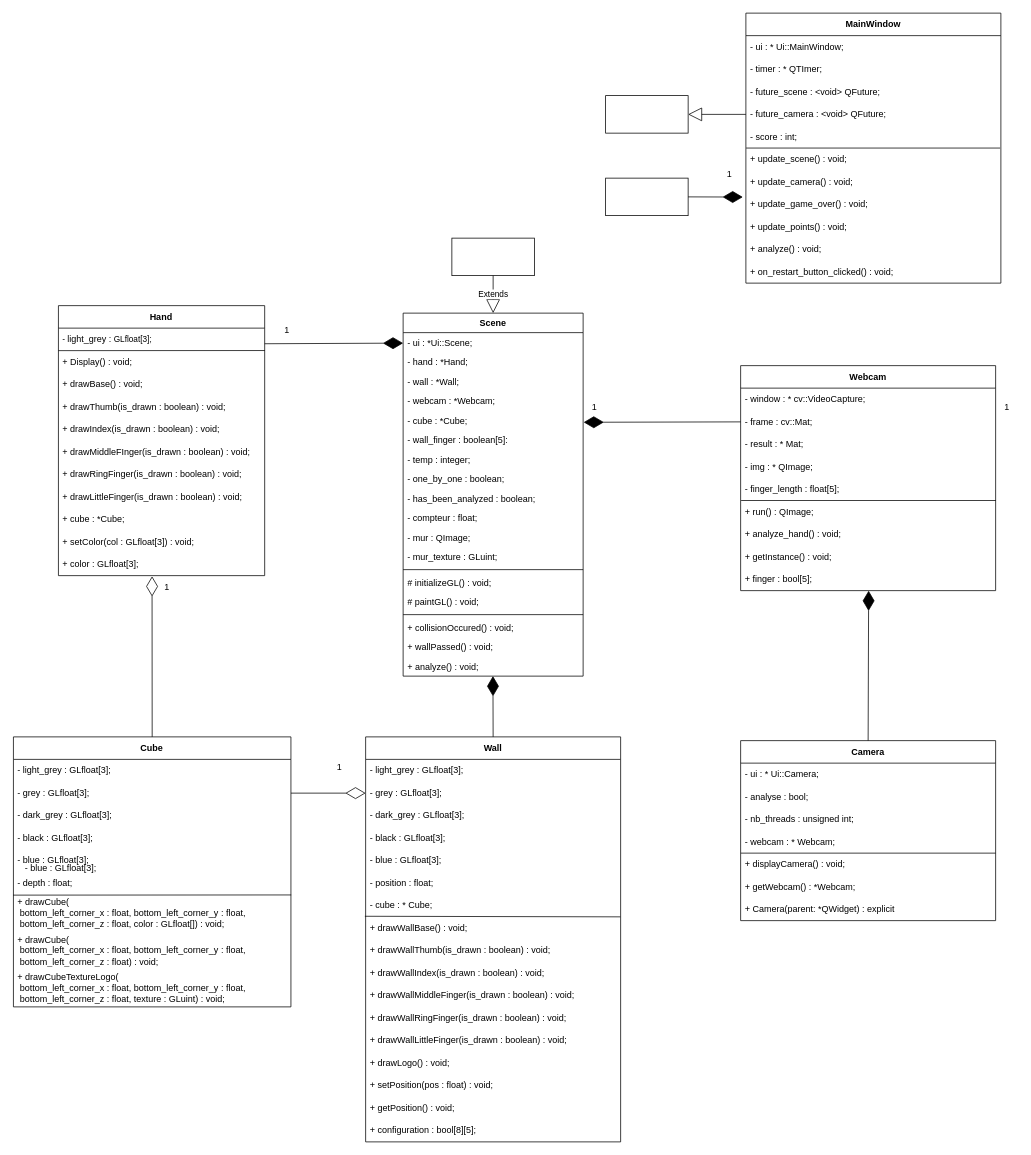
This 1031x1155 diagram has some shape labels left out. Here are the shapes that lost their labels. From the top down, the centre of each, then its label:
At (646,114): "QMainWindow".
At (646,196): "QTimer".
At (492,256): "QOpenGLWidget".
